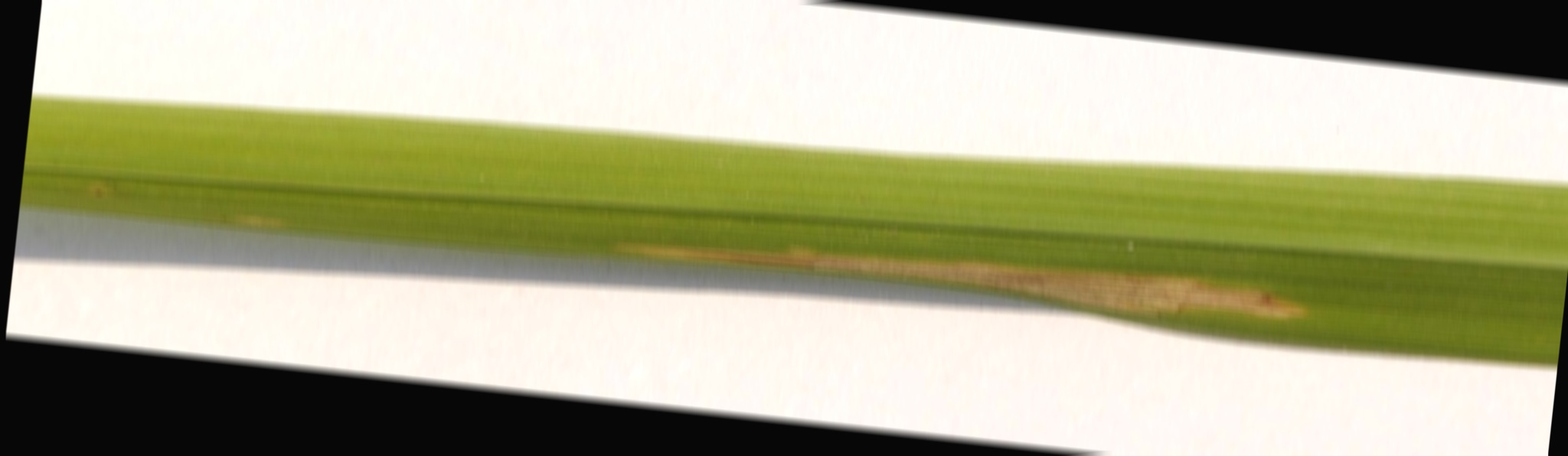Leaf_Blast: (580, 215, 1319, 323)
